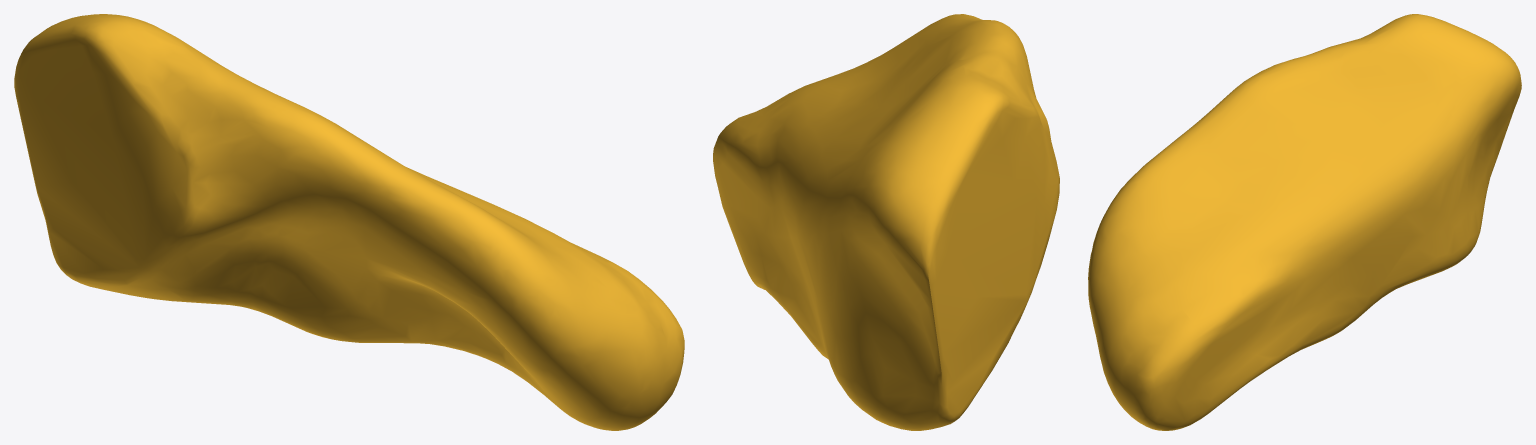
Rendered from nervoso-anterior-quadrangular-lobule-l.glb.
3 renders of one model, left to right at view 1: azimuth 30°, elevation 25°; view 2: azimuth 150°, elevation 25°; view 3: azimuth 270°, elevation 25°, orthographic. The views are drawn at different scales.
Visible parts, largest first — view 1: Anterior quadrangular lobule.l; view 2: Anterior quadrangular lobule.l; view 3: Anterior quadrangular lobule.l.
Part boxes in pixels (bbox=[...]): Anterior quadrangular lobule.l: bbox=[14, 14, 684, 430]; Anterior quadrangular lobule.l: bbox=[713, 14, 1059, 430]; Anterior quadrangular lobule.l: bbox=[1088, 14, 1521, 430].
Size of the model in its own units: 0.0305 by 0.0251 by 0.0348.
